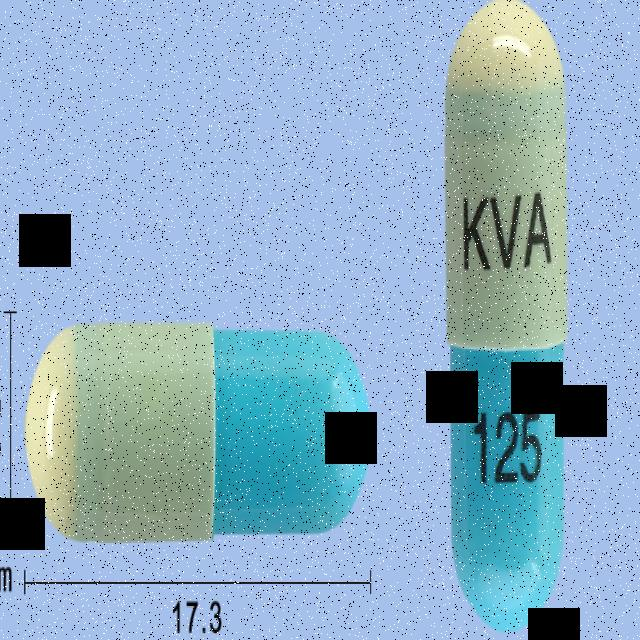Vancozin Cap: (444, 0, 569, 630)
